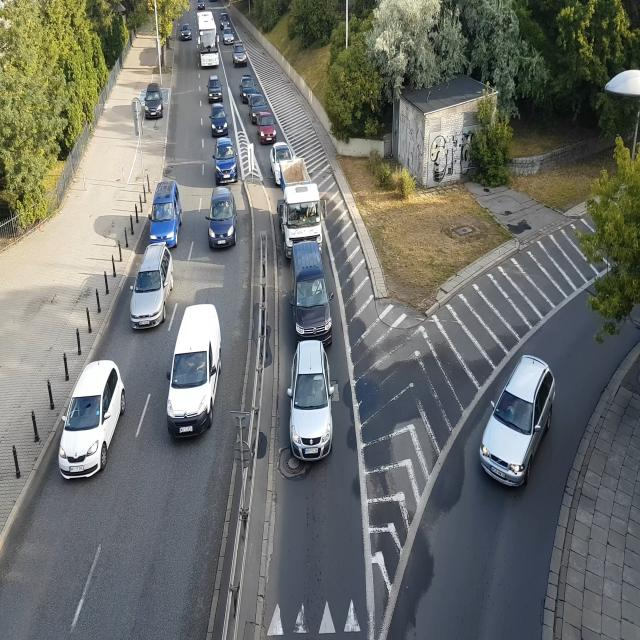bus: (195, 10, 220, 70)
car: (471, 349, 564, 497), (56, 356, 125, 494), (163, 298, 227, 444), (287, 342, 334, 466), (290, 244, 334, 338), (126, 250, 174, 332), (205, 183, 239, 249), (148, 181, 180, 243), (216, 135, 238, 183), (271, 136, 295, 174), (143, 85, 165, 120), (258, 111, 276, 147), (209, 102, 228, 135), (248, 93, 268, 123), (240, 76, 258, 102), (208, 76, 224, 101), (233, 42, 247, 68), (218, 9, 232, 29), (222, 26, 235, 45), (181, 22, 193, 42), (197, 0, 206, 10)
truck: (277, 162, 325, 255)
